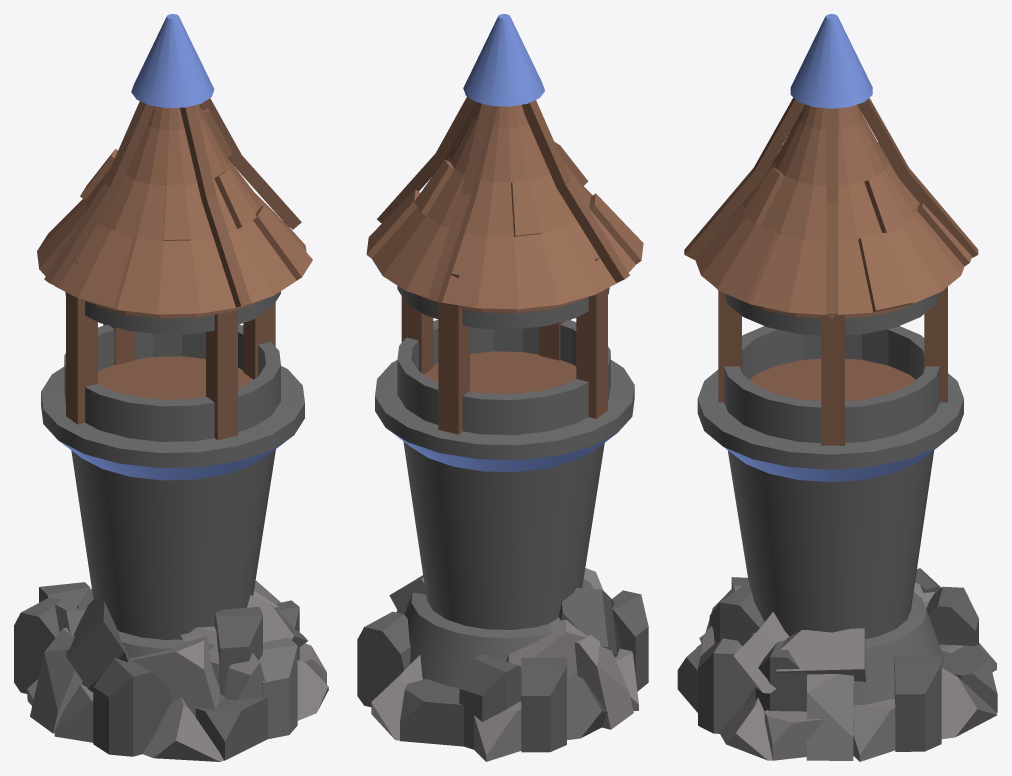
Rendered from ArcherTower.fbx.
The picture shows the model from 3 angles, left to right: view 1: azimuth 30°, elevation 25°; view 2: azimuth 150°, elevation 25°; view 3: azimuth 270°, elevation 25°; orthographic projection. The views are drawn at different scales.
Visible parts, largest first — view 1: Cylinder.002; view 2: Cylinder.002; view 3: Cylinder.002.
Part boxes in pixels (<box>): Cylinder.002: <box>14,14,328,761</box>; Cylinder.002: <box>357,14,648,761</box>; Cylinder.002: <box>677,14,997,761</box>.
Bounding box in the file's own units: 229 × 211 × 541.
